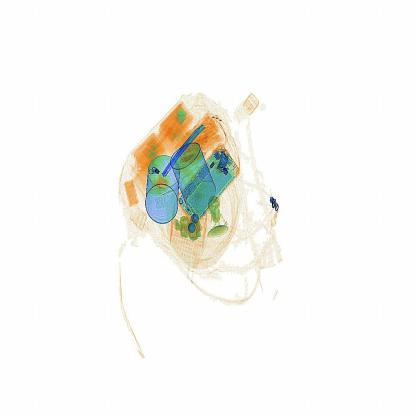pliers: (164, 115, 216, 178)
